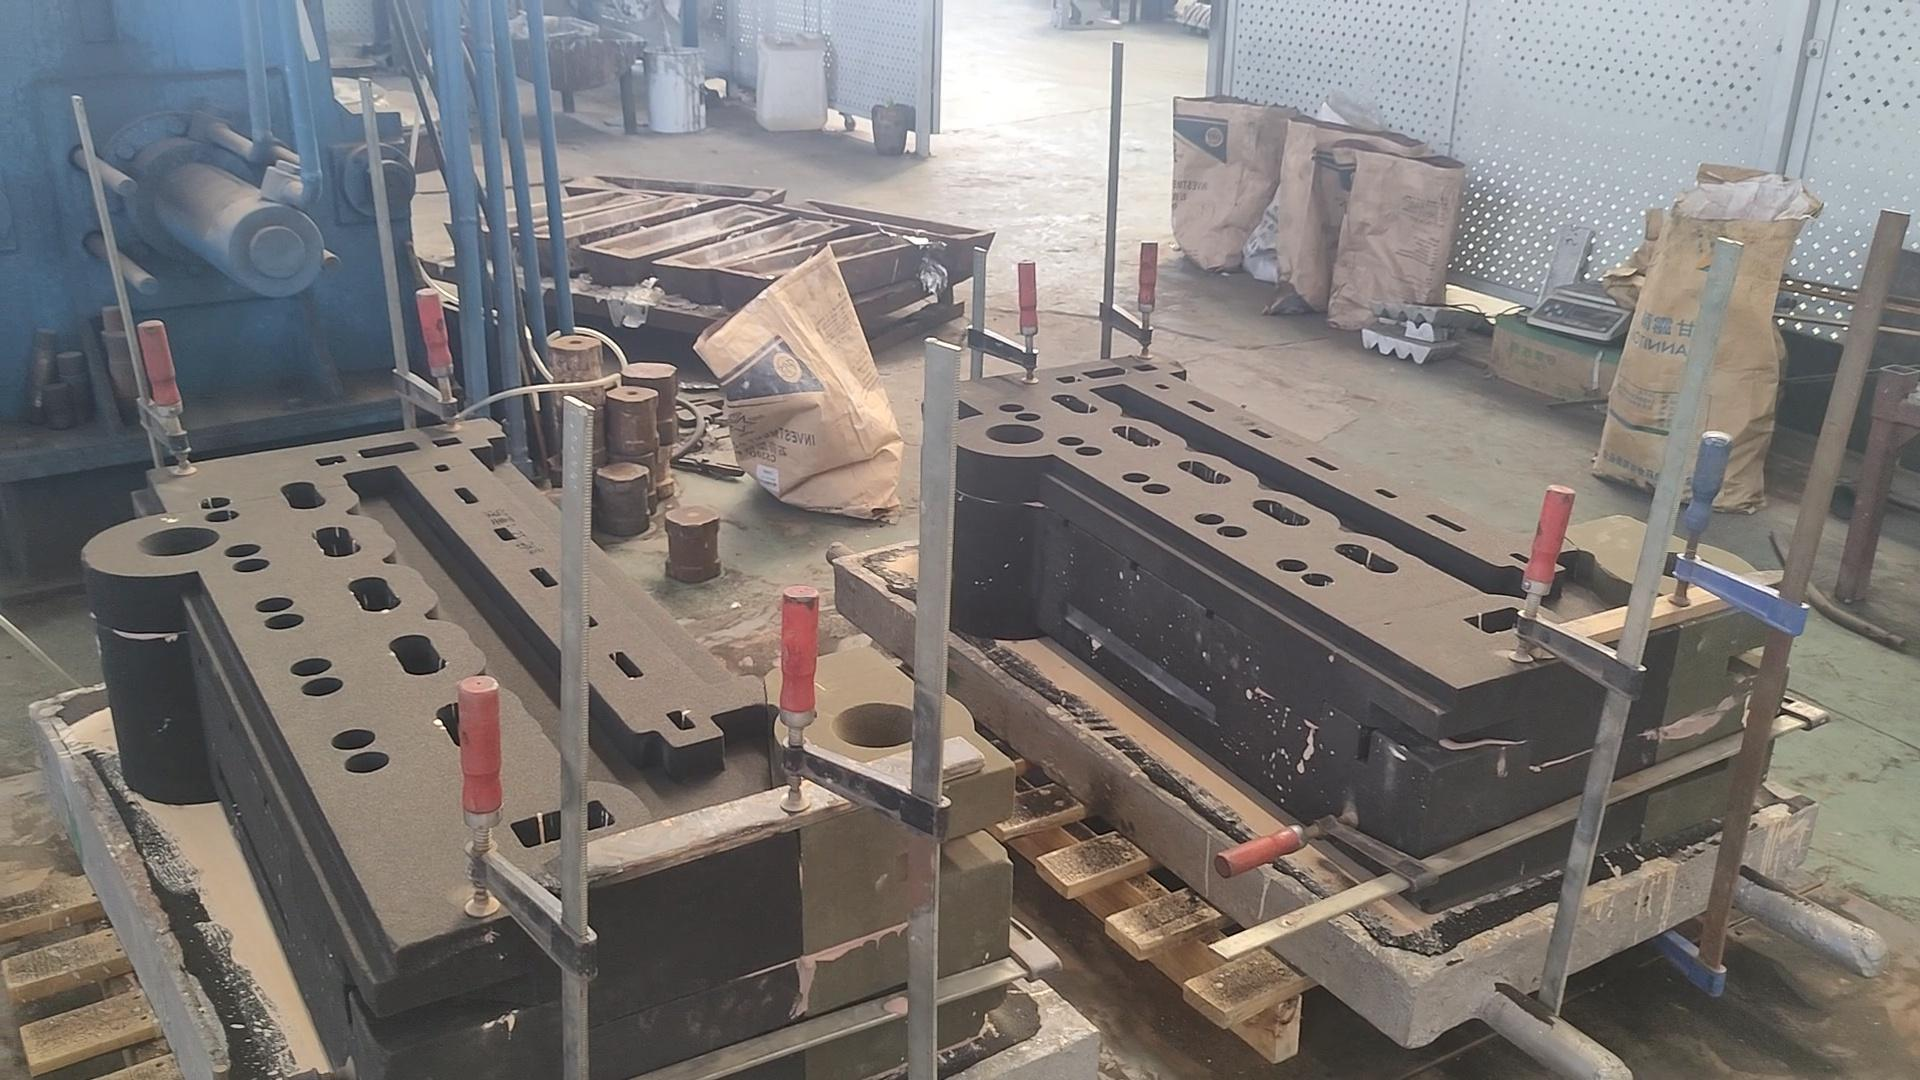pouring hole: (831, 702, 919, 748), (138, 527, 220, 555), (1644, 551, 1710, 578), (986, 425, 1044, 443)
